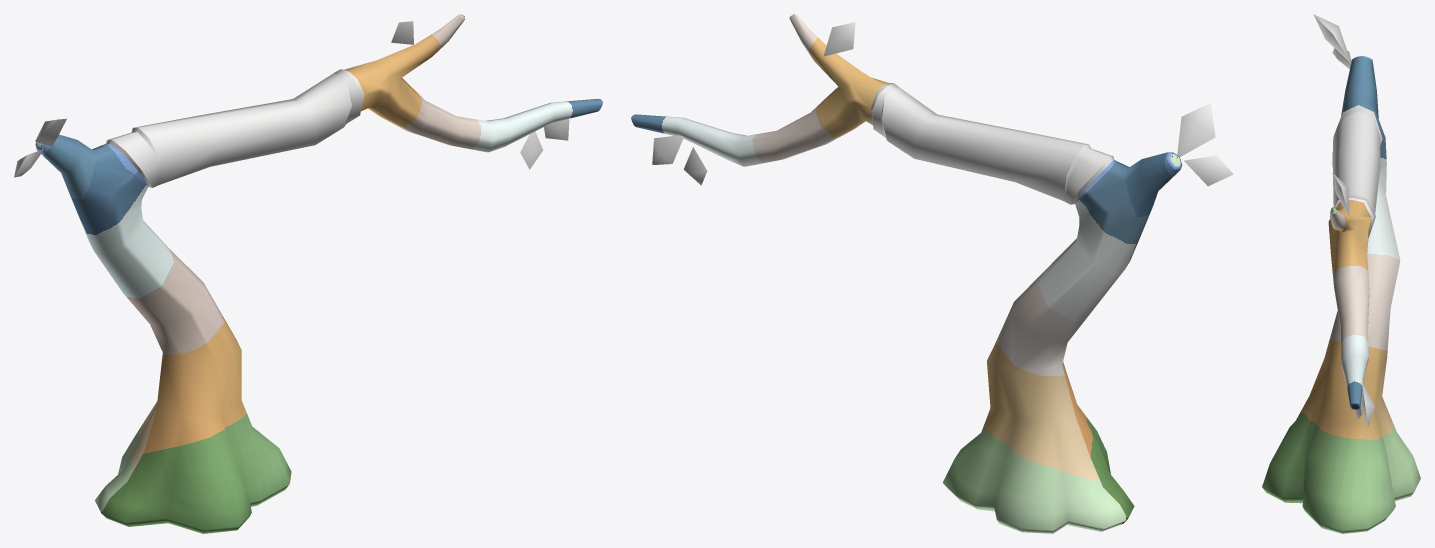
The model's file is P_AP26TreePerch.glb.
The picture shows the model from 3 angles, left to right: view 1: azimuth 30°, elevation 25°; view 2: azimuth 150°, elevation 25°; view 3: azimuth 270°, elevation 25°; orthographic projection. The views are drawn at different scales.
Visible parts, largest first — view 1: P_AP26TreePerch; view 2: P_AP26TreePerch; view 3: P_AP26TreePerch.
Part boxes in pixels (x1,y1,x2,y2): P_AP26TreePerch: [14, 14, 602, 533]; P_AP26TreePerch: [631, 14, 1233, 533]; P_AP26TreePerch: [1262, 14, 1420, 533].
Size of the model in its own units: 2.18 by 1.51 by 0.5293.
1 material, 1 textured.
